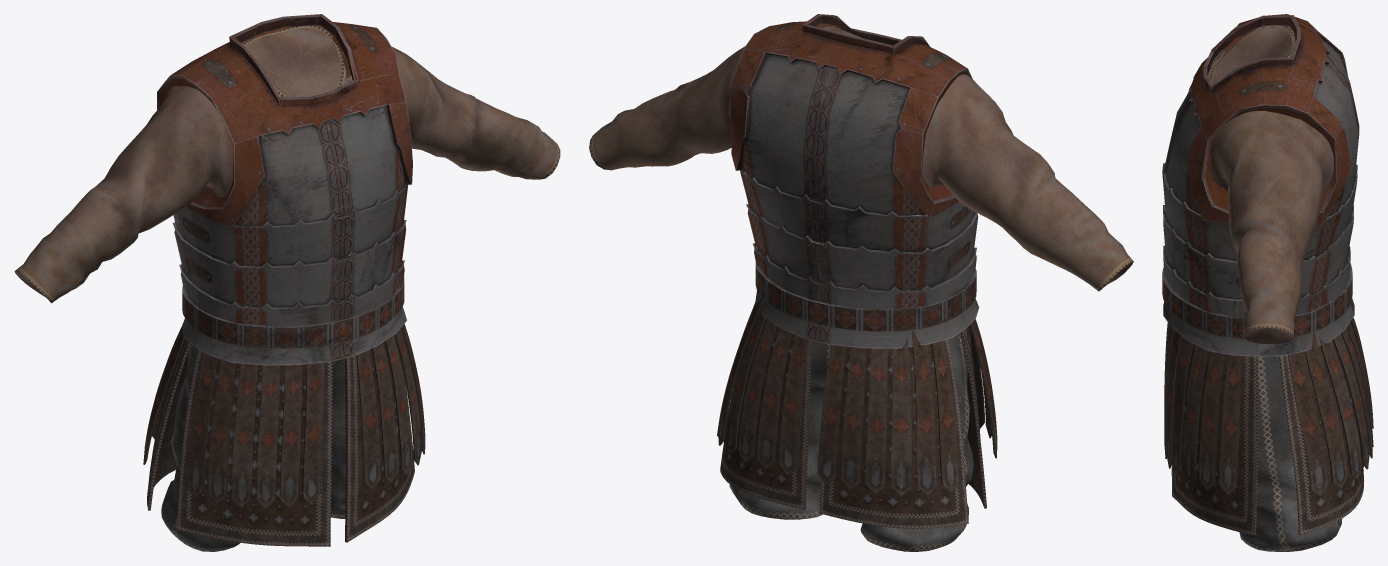
Rendered from sk_dwarf_iron_chest_elite_d.fbx.
The picture shows the model from 3 angles, left to right: view 1: azimuth 30°, elevation 25°; view 2: azimuth 150°, elevation 25°; view 3: azimuth 270°, elevation 25°; orthographic projection. The views are drawn at different scales.
Visible parts, largest first — view 1: sk_dwarf_iron_chest_elite_d.0, sk_dwarf_iron_chest_elite_d.1, sk_dwarf_iron_chest_elite_d.2; view 2: sk_dwarf_iron_chest_elite_d.0, sk_dwarf_iron_chest_elite_d.1, sk_dwarf_iron_chest_elite_d.2; view 3: sk_dwarf_iron_chest_elite_d.0, sk_dwarf_iron_chest_elite_d.1, sk_dwarf_iron_chest_elite_d.2.
Part boxes in pixels (box(x1,y1,x2,y2)): sk_dwarf_iron_chest_elite_d.0: box(157, 14, 412, 551); sk_dwarf_iron_chest_elite_d.1: box(143, 276, 425, 546); sk_dwarf_iron_chest_elite_d.2: box(14, 25, 560, 303); sk_dwarf_iron_chest_elite_d.0: box(729, 14, 979, 551); sk_dwarf_iron_chest_elite_d.1: box(717, 262, 997, 528); sk_dwarf_iron_chest_elite_d.2: box(589, 26, 1133, 291); sk_dwarf_iron_chest_elite_d.0: box(1162, 14, 1359, 551); sk_dwarf_iron_chest_elite_d.1: box(1162, 263, 1373, 535); sk_dwarf_iron_chest_elite_d.2: box(1198, 25, 1333, 343).
Size of the model in its own units: 1.17 by 0.4144 by 1.03.
